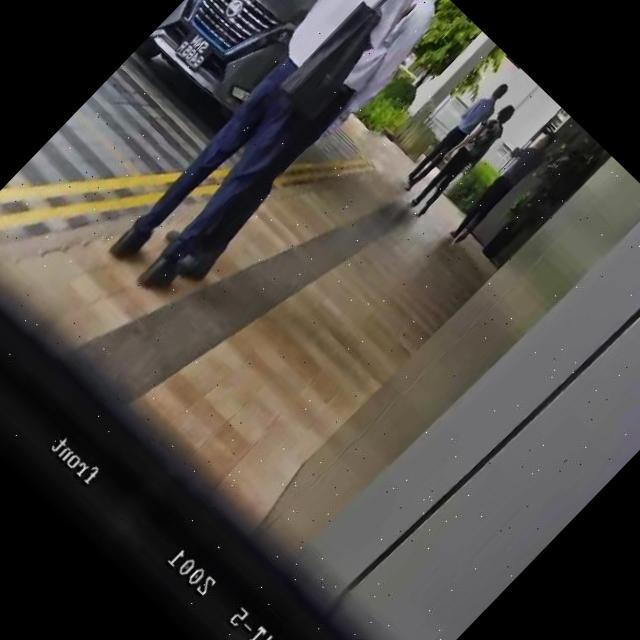person: (83, 0, 449, 302), (154, 0, 461, 289), (436, 120, 564, 251), (402, 98, 524, 222), (396, 76, 515, 198)
